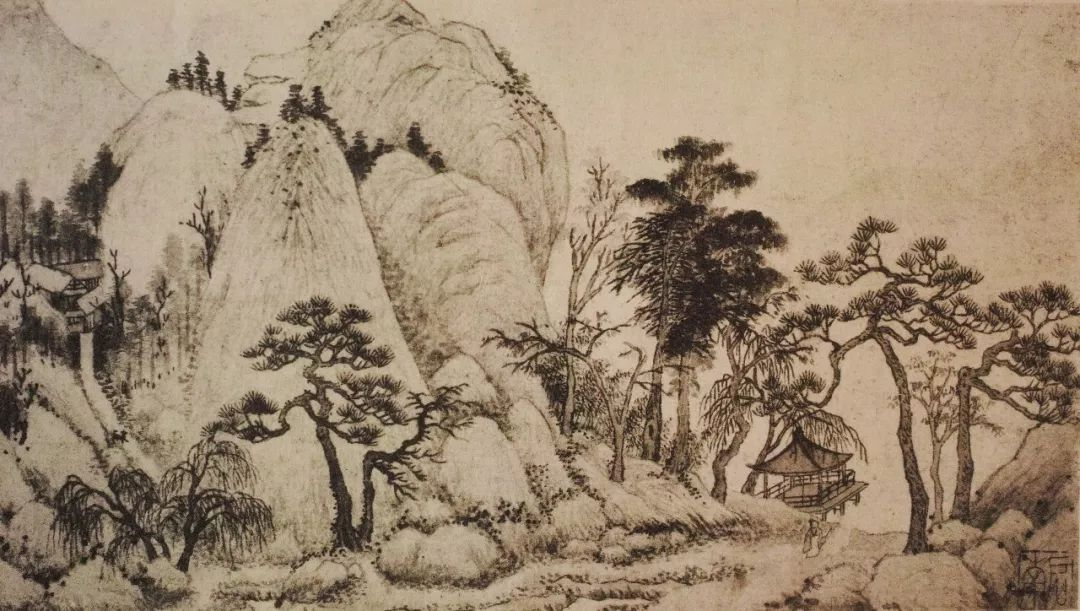booth: (768, 438, 862, 512)
house: (36, 263, 98, 312)
mountain: (135, 168, 501, 292), (447, 462, 741, 555), (1, 1, 161, 136), (308, 22, 508, 121), (3, 279, 49, 592), (394, 305, 528, 375), (56, 333, 138, 443), (145, 301, 253, 383), (503, 125, 558, 265)
tree: (634, 172, 766, 325), (814, 249, 971, 332), (565, 172, 610, 452), (981, 296, 1079, 415), (728, 338, 849, 415), (884, 346, 927, 544), (927, 372, 972, 532), (318, 378, 361, 541), (265, 308, 382, 363), (1, 188, 94, 256), (656, 330, 702, 456), (602, 362, 638, 462), (215, 401, 292, 442), (404, 389, 480, 428), (172, 63, 237, 99), (659, 140, 731, 166), (717, 414, 746, 462), (377, 132, 437, 155), (85, 152, 121, 185), (343, 135, 369, 175), (288, 92, 324, 118), (856, 222, 902, 242), (374, 452, 417, 470), (828, 342, 874, 349), (250, 132, 259, 160), (115, 262, 121, 285)
willow: (57, 448, 262, 562)
